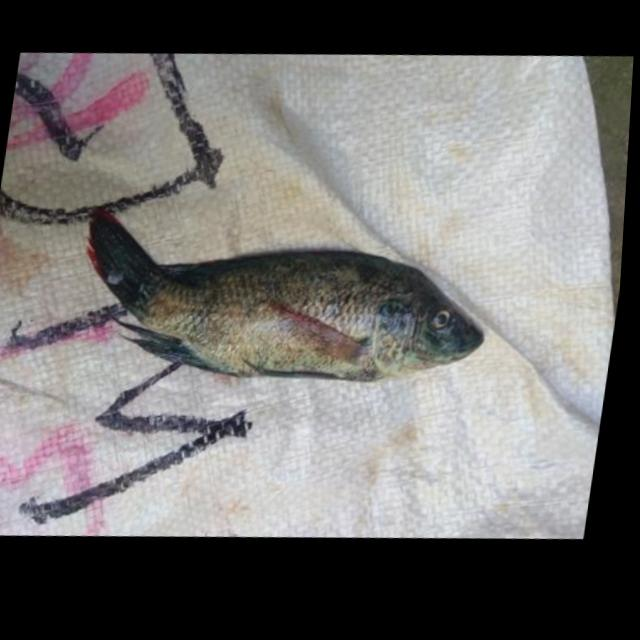Tilapia: (57, 167, 505, 416)
